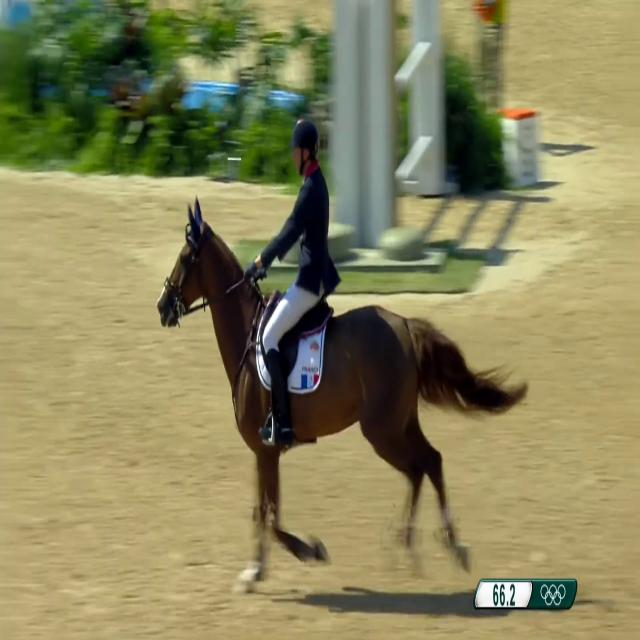Horse Rider: (258, 110, 347, 426)
Horse Running: (140, 180, 558, 596)
